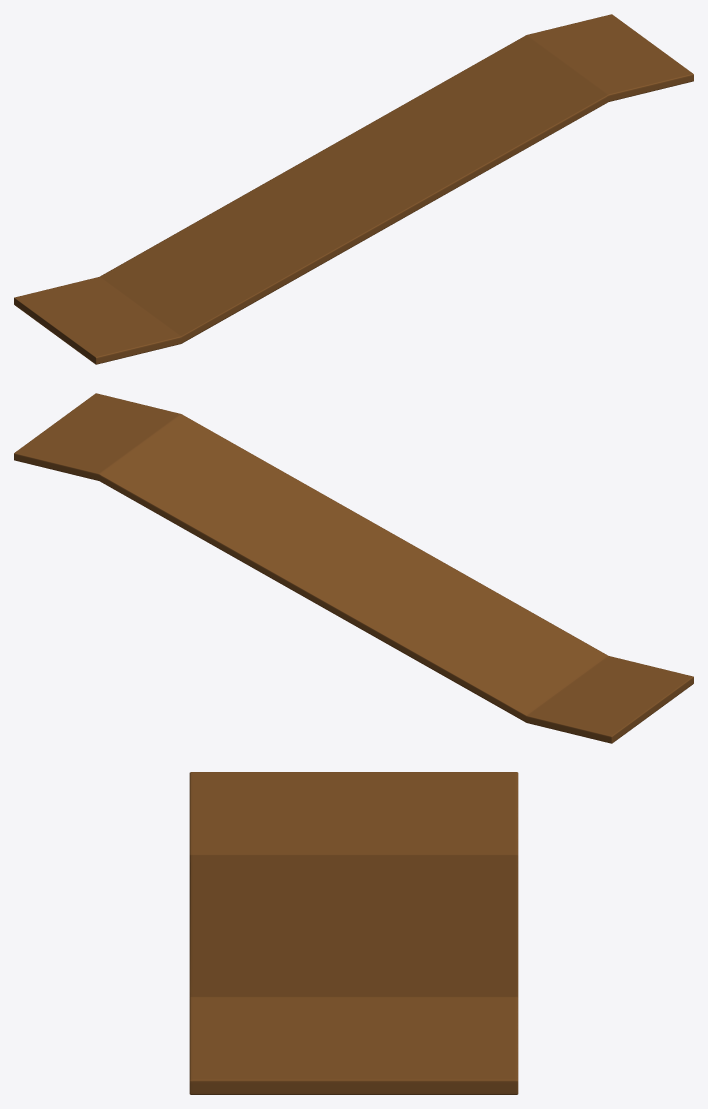
The model's file is InclinedPlatform.fbx.
3 renders of one model, top to bottom at view 1: azimuth 30°, elevation 25°; view 2: azimuth 150°, elevation 25°; view 3: azimuth 270°, elevation 25°, orthographic. The views are drawn at different scales.
Parts seen in each view (by area): view 1: InclinedPlatform_High; view 2: InclinedPlatform_High; view 3: InclinedPlatform_High.
Boxes of the visible parts, x1=… form: InclinedPlatform_High: x1=14, y1=14, x2=693, y2=364; InclinedPlatform_High: x1=14, y1=393, x2=693, y2=743; InclinedPlatform_High: x1=189, y1=772, x2=518, y2=1094.
Bounding box in the file's own units: 42 × 9.73 × 10.
